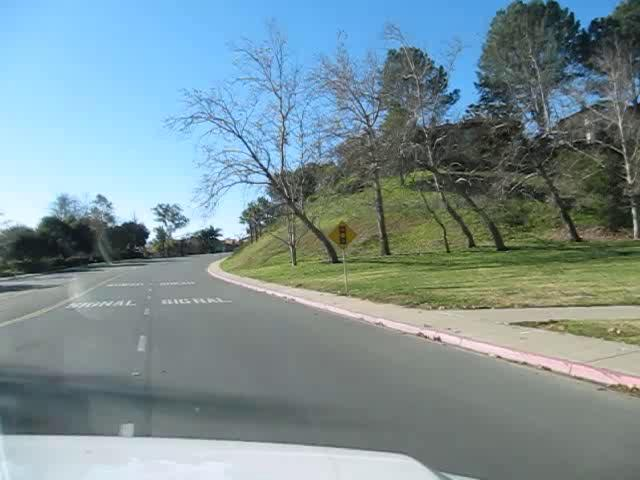signalAhead: (327, 219, 358, 251)
